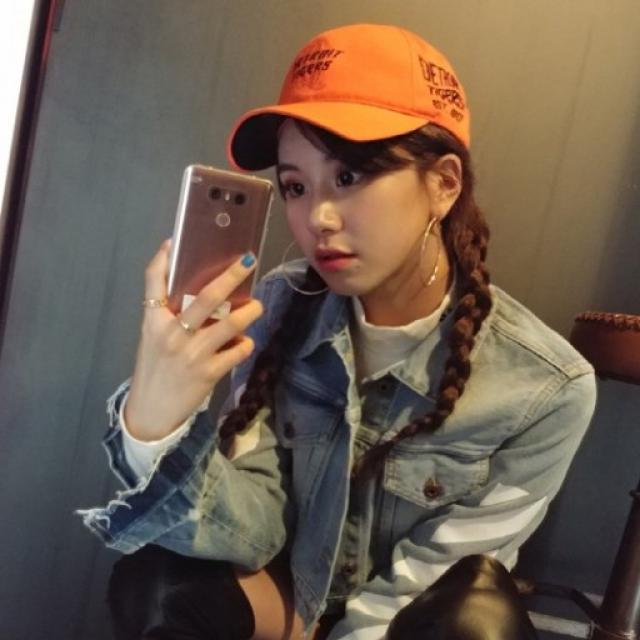mobile: (157, 163, 275, 365)
